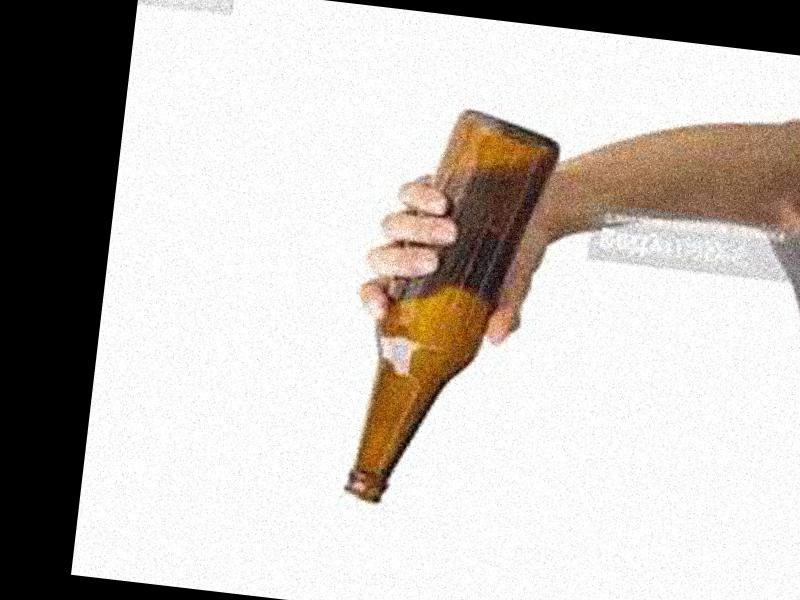Beer: (343, 103, 566, 518)
